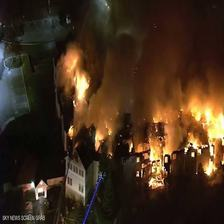fire: (179, 98, 222, 185), (56, 47, 96, 138), (134, 111, 177, 192), (69, 110, 133, 154)
